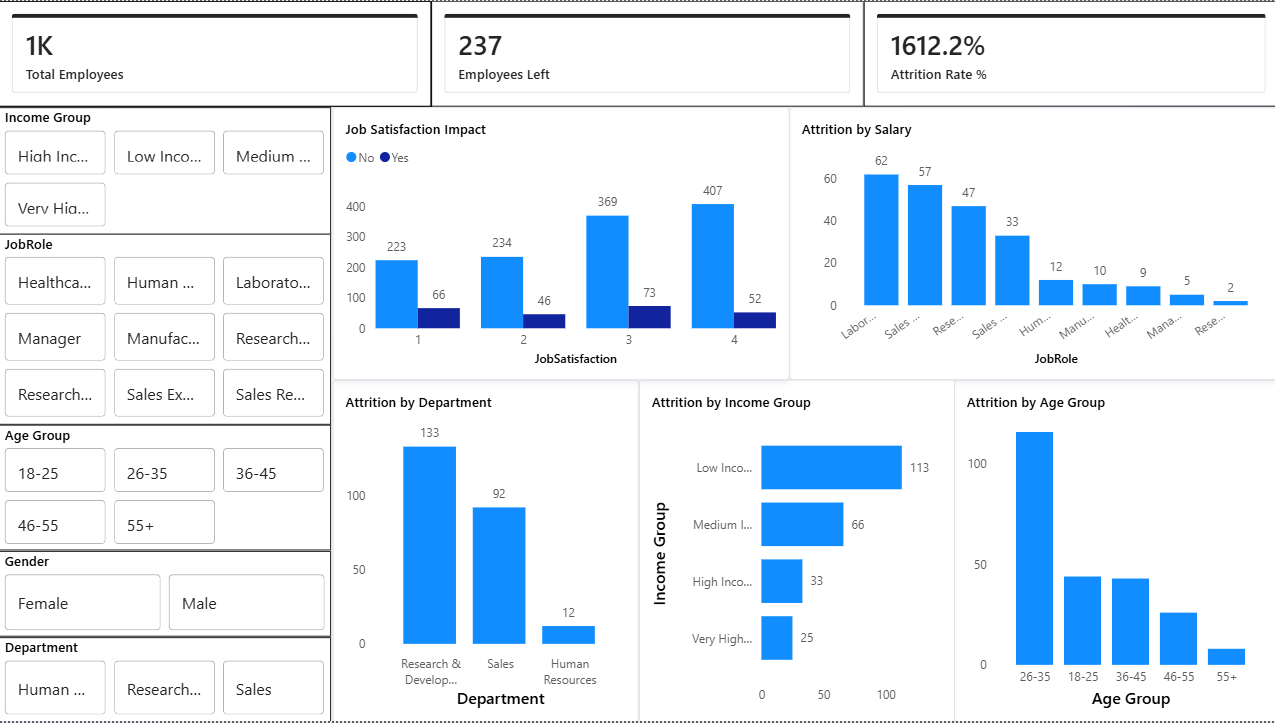

The page's visual inventory and layout, read from the dashboard file:
{"tool":"powerbi","page":{"name":"Page 1","canvas":[1280,720],"ordinal":0},"visuals":[{"type":"cardVisual","fields":{"Data":["HR-Employee-Attrition-Dataset.Total Employees"]},"box":[0,0,432.2,105.7],"z":0},{"type":"cardVisual","fields":{"Data":["HR-Employee-Attrition-Dataset.Employees Left"]},"box":[432.2,0,432.2,105.7],"z":1000},{"type":"cardVisual","fields":{"Data":["HR-Employee-Attrition-Dataset.Attrition Rate %"]},"box":[864.5,0,415.8,105.7],"z":2000},{"type":"clusteredColumnChart","title":"Attrition by Department","fields":{"Category":["HR-Employee-Attrition-Dataset.Department"],"Y":["HR-Employee-Attrition-Dataset.Employees Left"]},"box":[333.4,378.2,306,342.1],"z":3000},{"type":"clusteredColumnChart","title":"Attrition by Age Group","fields":{"Category":["HR-Employee-Attrition-Dataset.Age Group"],"Y":["HR-Employee-Attrition-Dataset.Employees Left"]},"box":[955.4,378.2,324.7,342.1],"z":4000},{"type":"clusteredColumnChart","title":"Attrition by Salary","fields":{"Y":["HR-Employee-Attrition-Dataset.Employees Left"],"Category":["HR-Employee-Attrition-Dataset.JobRole"]},"box":[789.9,105.7,490.1,272.4],"z":5000},{"type":"clusteredBarChart","title":"Attrition by Income Group","fields":{"Y":["HR-Employee-Attrition-Dataset.Employees Left"],"Category":["HR-Employee-Attrition-Dataset.Income Group"]},"box":[639.4,378.2,316,342.1],"z":6000},{"type":"clusteredColumnChart","title":"Job Satisfaction Impact","fields":{"Category":["HR-Employee-Attrition-Dataset.JobSatisfaction"],"Y":["HR-Employee-Attrition-Dataset.Total Employees"],"Series":["HR-Employee-Attrition-Dataset.Attrition"]},"box":[333.4,105.7,456.5,272.4],"z":7000},{"type":"advancedSlicerVisual","fields":{"Values":["HR-Employee-Attrition-Dataset.Department"]},"box":[0,635.7,332.1,84.6],"z":8000},{"type":"advancedSlicerVisual","fields":{"Values":["HR-Employee-Attrition-Dataset.Age Group"]},"box":[0,424.2,332.1,125.6],"z":9000},{"type":"advancedSlicerVisual","fields":{"Values":["HR-Employee-Attrition-Dataset.Gender"]},"box":[0,549.8,332.1,85.8],"z":10000},{"type":"advancedSlicerVisual","fields":{"Values":["HR-Employee-Attrition-Dataset.JobRole"]},"box":[0,232.6,332.1,191.6],"z":11000},{"type":"advancedSlicerVisual","fields":{"Values":["HR-Employee-Attrition-Dataset.Income Group"]},"box":[0,105.7,332.1,126.9],"z":12000}]}

Visuals, with their boxes in screenshot pixels (x1, y1, x2, y2), scaled from the page's 1280x720 canvas onto the 1275x723 screenshot:
cardVisual - HR-Employee-Attrition-Dataset.Total Employees: l=0, t=0, r=431, b=106
cardVisual - HR-Employee-Attrition-Dataset.Employees Left: l=431, t=0, r=861, b=106
cardVisual - HR-Employee-Attrition-Dataset.Attrition Rate %: l=861, t=0, r=1274, b=106
"Attrition by Department" clusteredColumnChart: l=332, t=380, r=637, b=722
"Attrition by Age Group" clusteredColumnChart: l=952, t=380, r=1274, b=722
"Attrition by Salary" clusteredColumnChart: l=787, t=106, r=1274, b=380
"Attrition by Income Group" clusteredBarChart: l=637, t=380, r=952, b=722
"Job Satisfaction Impact" clusteredColumnChart: l=332, t=106, r=787, b=380
advancedSlicerVisual - HR-Employee-Attrition-Dataset.Department: l=0, t=638, r=331, b=722
advancedSlicerVisual - HR-Employee-Attrition-Dataset.Age Group: l=0, t=426, r=331, b=552
advancedSlicerVisual - HR-Employee-Attrition-Dataset.Gender: l=0, t=552, r=331, b=638
advancedSlicerVisual - HR-Employee-Attrition-Dataset.JobRole: l=0, t=234, r=331, b=426
advancedSlicerVisual - HR-Employee-Attrition-Dataset.Income Group: l=0, t=106, r=331, b=234
